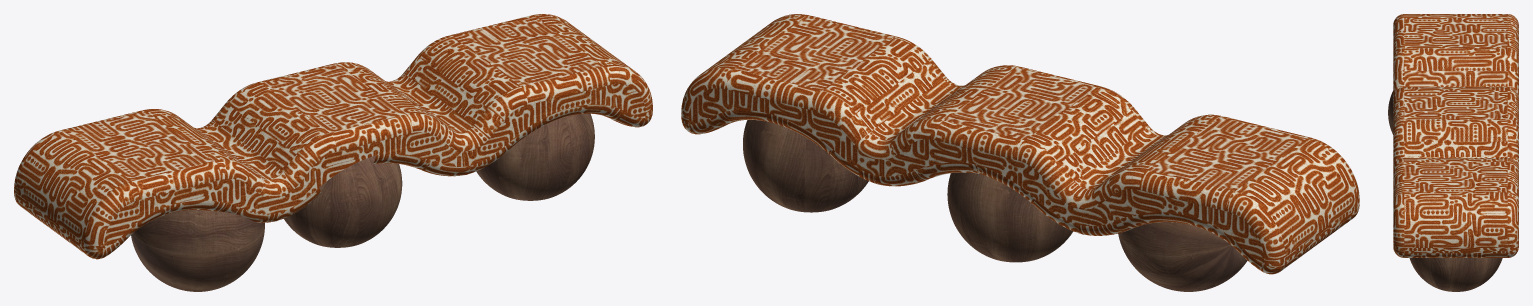
The model's file is SPHERES BENCH.glb.
The picture shows the model from 3 angles, left to right: view 1: azimuth 30°, elevation 25°; view 2: azimuth 150°, elevation 25°; view 3: azimuth 270°, elevation 25°; orthographic projection. The views are drawn at different scales.
Bounding box in the file's own units: 1.78 × 0.4284 × 0.4685.
Materials: 2 (2 with a texture image).
